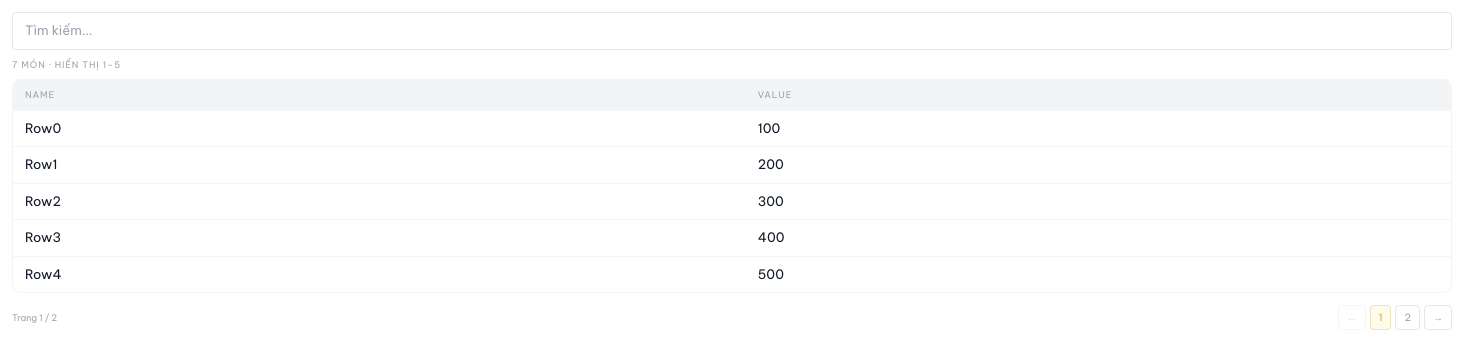
Scenario: DataTable › paginates: next page shows remainder
Click the button "2". click: (1408, 318)
box: x1=1396 y1=305 x2=1420 y2=330
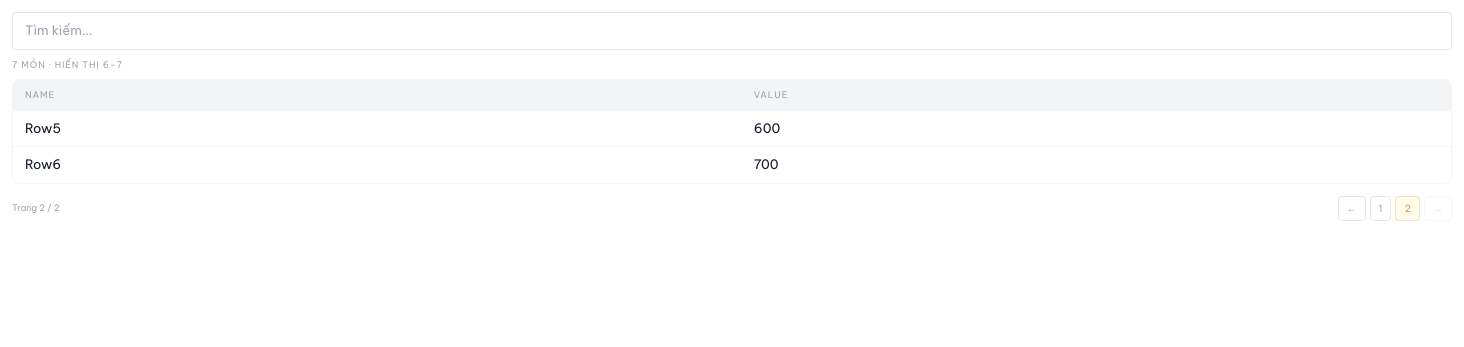
Result: the text "Row5" is shown at x1=13 y1=110 x2=742 y2=146
Result: the text "Row6" is shown at x1=13 y1=146 x2=742 y2=182
